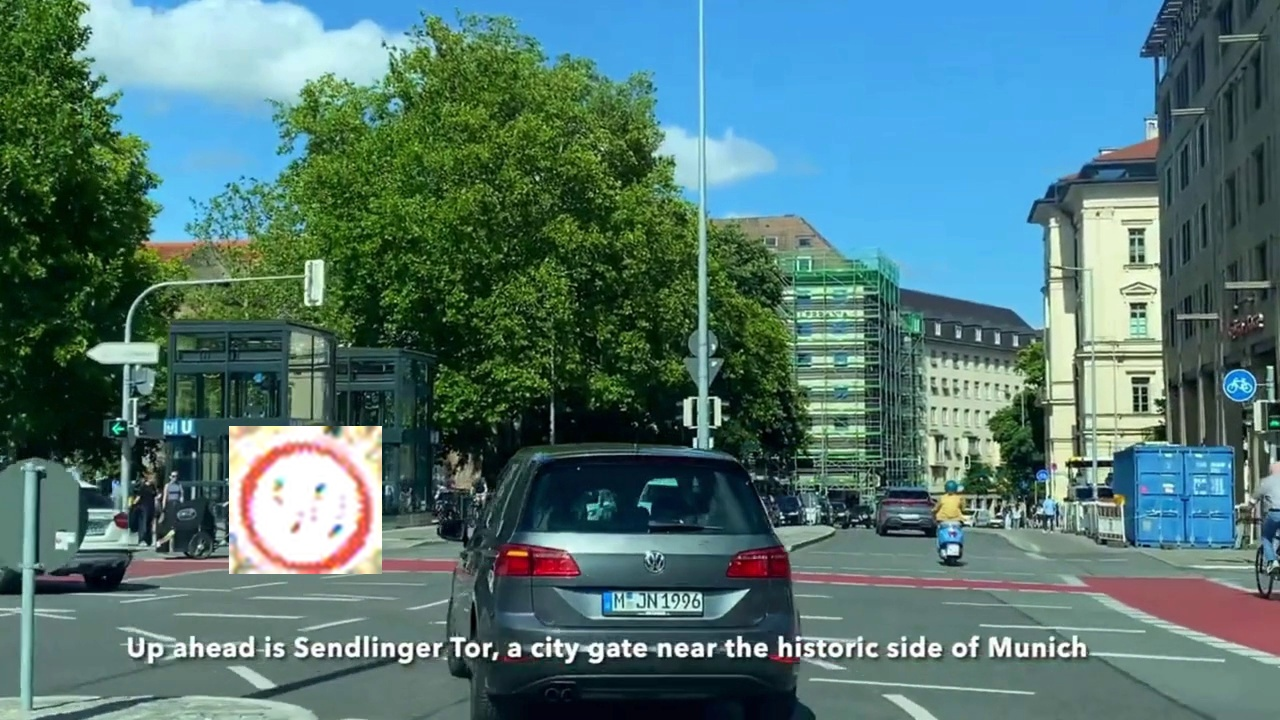Speed 50: (229, 426, 382, 574)
